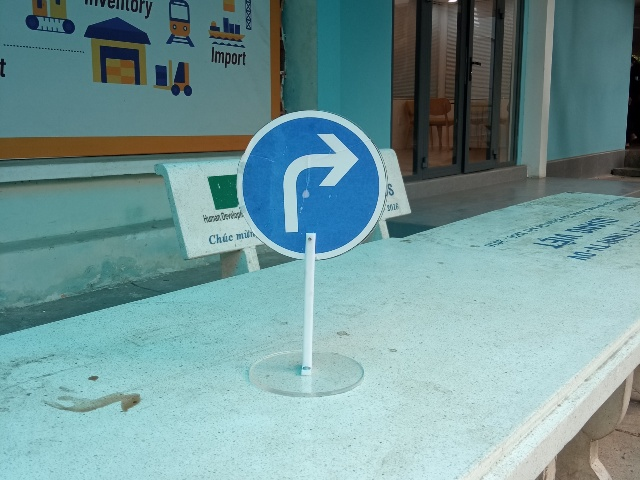Right_Sign: (237, 109, 388, 259)
